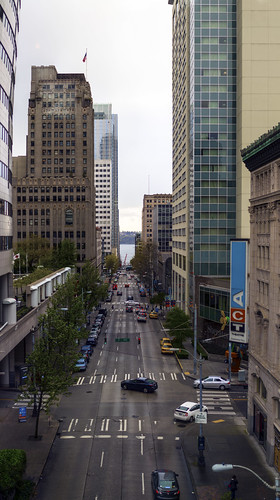building: (175, 1, 253, 316), (18, 72, 100, 283), (239, 137, 280, 500), (94, 103, 119, 262), (135, 188, 175, 280)
car: (146, 465, 182, 500), (193, 374, 232, 393), (117, 374, 156, 393), (174, 403, 213, 422)
crosswalk: (71, 364, 191, 392), (59, 409, 179, 437), (196, 384, 239, 420)
sky: (56, 1, 170, 151)
street: (54, 274, 194, 500)
